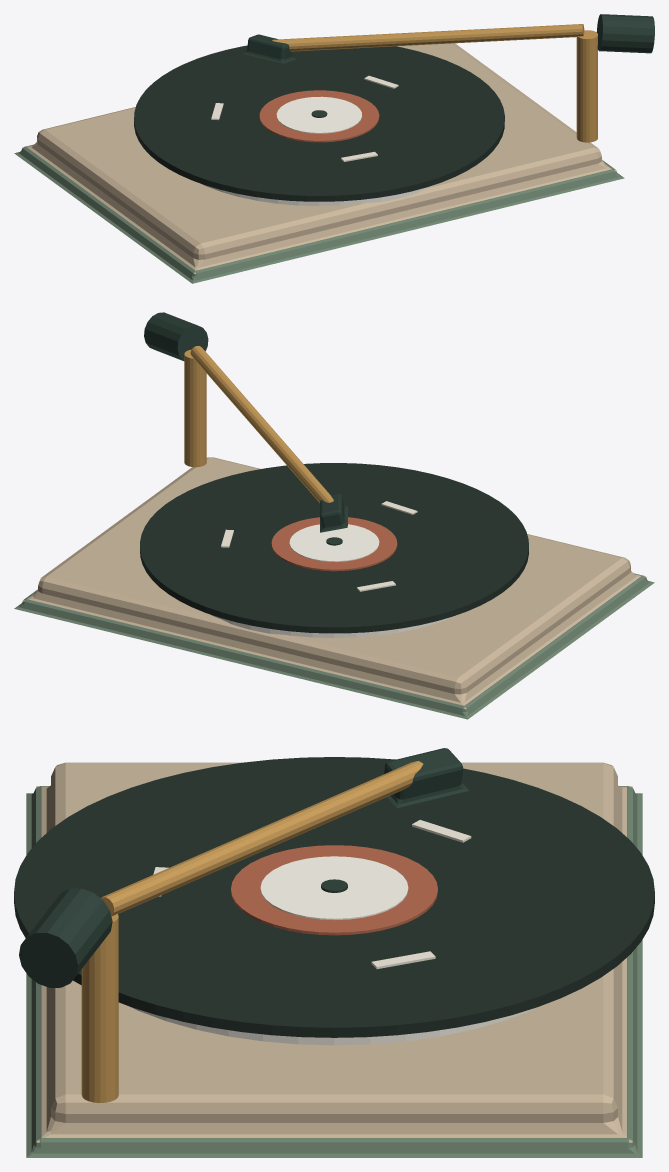
Rendered from music.glb.
3 renders of one model, top to bottom at view 1: azimuth 30°, elevation 25°; view 2: azimuth 150°, elevation 25°; view 3: azimuth 270°, elevation 25°, orthographic. The views are drawn at different scales.
Visible parts, largest first — view 1: Disc, Base, BaseRim, Tonearm, Label, LabelRing, ArmPost, Counterweight, Cartridge, Platter; view 2: Disc, Base, BaseRim, Tonearm, Label, LabelRing, ArmPost, Counterweight, Platter, Cartridge; view 3: Disc, Base, BaseRim, Tonearm, Label, LabelRing, Counterweight, ArmPost, Cartridge, Platter.
Part boxes in pixels (bbox=[...]): Disc: bbox=[134, 45, 504, 201]; Base: bbox=[22, 43, 616, 273]; BaseRim: bbox=[14, 144, 624, 283]; Tonearm: bbox=[272, 24, 584, 51]; Label: bbox=[259, 90, 379, 142]; LabelRing: bbox=[276, 96, 362, 133]; ArmPost: bbox=[576, 30, 597, 142]; Counterweight: bbox=[596, 14, 654, 53]; Cartridge: bbox=[242, 34, 296, 63]; Platter: bbox=[202, 184, 436, 206]; Disc: bbox=[140, 463, 528, 633]; Base: bbox=[22, 457, 646, 709]; BaseRim: bbox=[14, 573, 654, 719]; Tonearm: bbox=[190, 346, 333, 502]; Label: bbox=[271, 517, 397, 571]; LabelRing: bbox=[289, 524, 379, 561]; ArmPost: bbox=[184, 349, 206, 467]; Counterweight: bbox=[144, 312, 208, 360]; Platter: bbox=[210, 614, 458, 637]; Cartridge: bbox=[320, 493, 347, 532]; Disc: bbox=[14, 757, 654, 1037]; Base: bbox=[36, 762, 632, 1142]; BaseRim: bbox=[26, 786, 642, 1157]; Tonearm: bbox=[100, 761, 423, 916]; Label: bbox=[231, 845, 437, 935]; LabelRing: bbox=[260, 856, 408, 920]; Counterweight: bbox=[19, 888, 112, 987]; ArmPost: bbox=[81, 913, 118, 1102]; Cartridge: bbox=[384, 748, 469, 808]; Platter: bbox=[131, 1007, 537, 1045].
Size of the model in its own units: 3.82 by 1.18 by 2.6.
